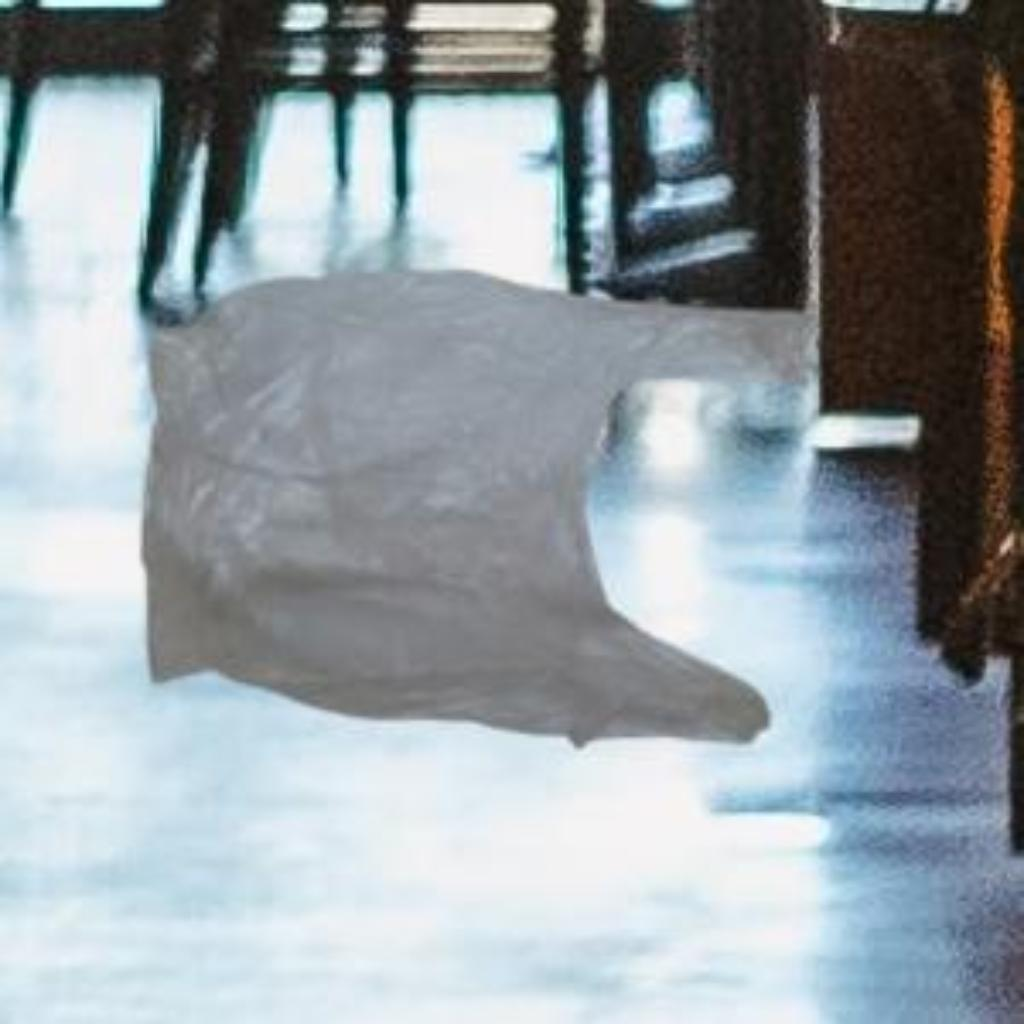garbage: (118, 229, 848, 778)
